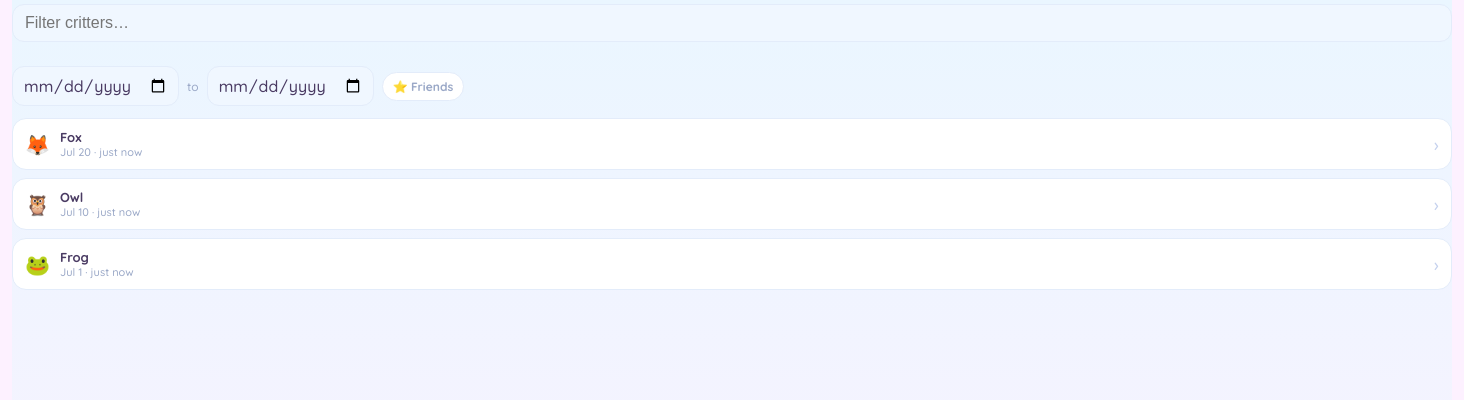
it: HistoryPane › Clear resets both bounds
Type "2026-07-15" into the date field named "From". click: (96, 86)
box: [12,66,179,106]
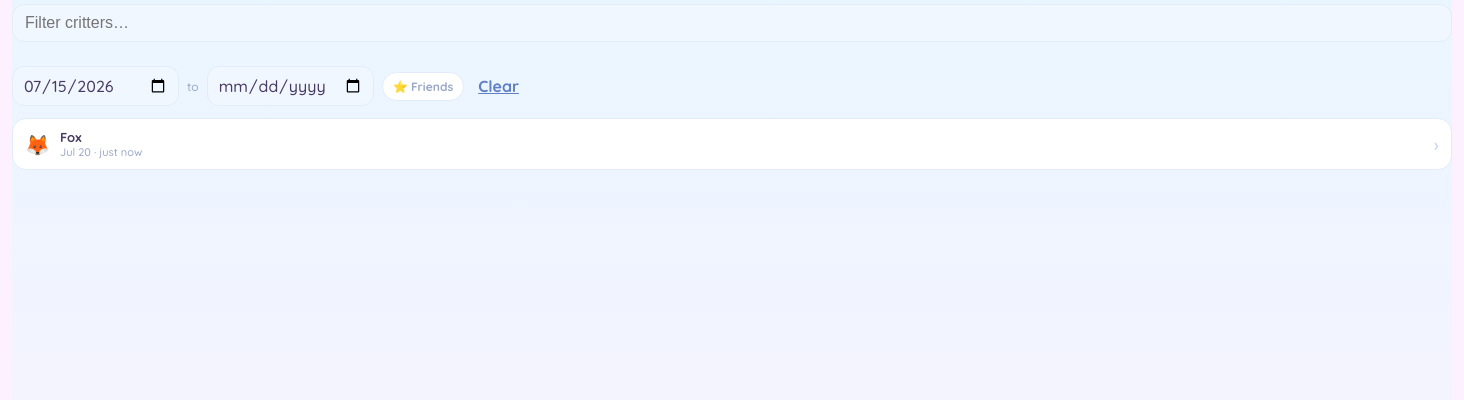
Now the number of list items is 1, box [12,118,1452,170]
Click the button "Clear". click: click(499, 86)
box: [472,75,525,97]
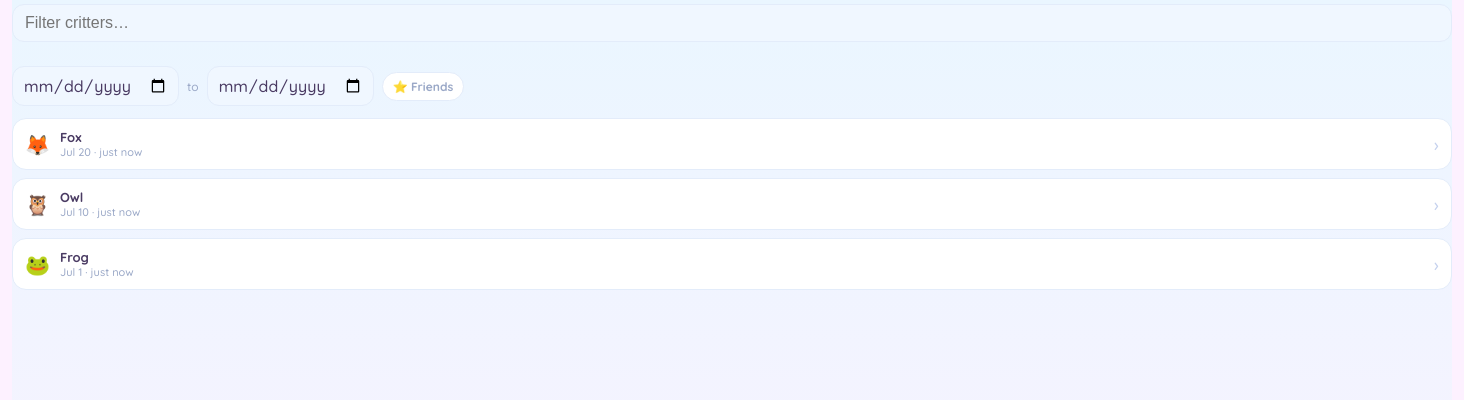
Now the number of list items is 3, box [12,118,1452,170]; [12,178,1452,230]; [12,238,1452,290]
Now the date field named "From" is empty, box [12,66,179,106]
